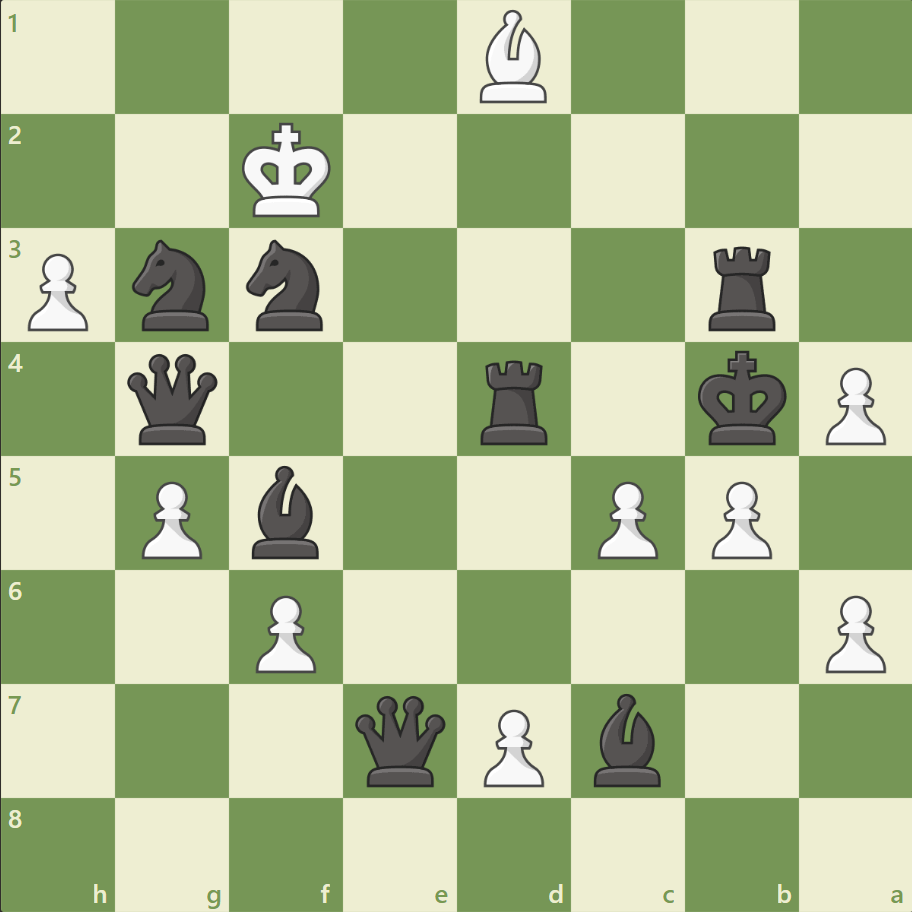B: (471, 6, 555, 109)
K: (238, 117, 338, 225)
P: (474, 700, 549, 791), (247, 586, 322, 677), (701, 473, 776, 564), (133, 473, 208, 564), (20, 246, 95, 337), (815, 586, 889, 677), (588, 473, 662, 564), (815, 359, 889, 450)
b: (585, 687, 669, 790), (244, 460, 328, 563)
k: (692, 344, 792, 452)
n: (124, 234, 222, 337), (238, 234, 335, 337)
q: (124, 349, 223, 449), (351, 690, 450, 789)
r: (473, 352, 556, 449), (700, 239, 783, 336)
